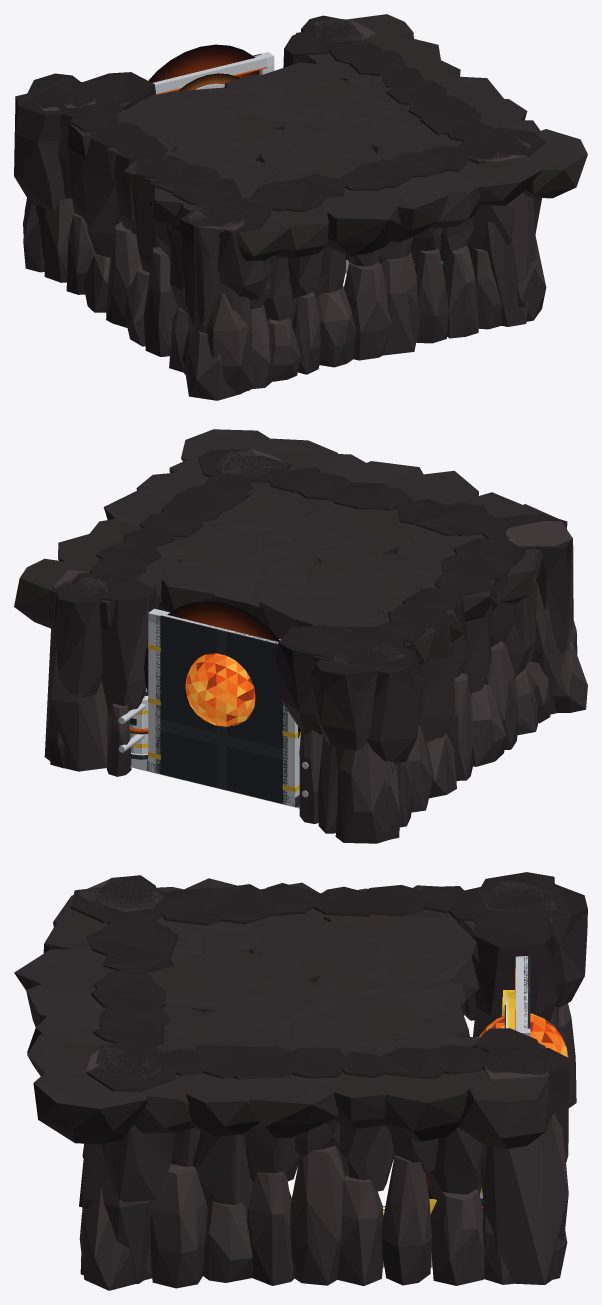
File: reactor-hall.glb
The picture shows the model from 3 angles, top to bottom: view 1: azimuth 30°, elevation 25°; view 2: azimuth 150°, elevation 25°; view 3: azimuth 270°, elevation 25°; orthographic projection. The views are drawn at different scales.
Visible parts, largest first — view 1: Batched static valley; view 2: Batched static valley, Spin_z_8; view 3: Batched static valley, Spin_z_8.
Boxes of the visible parts, x1,y1,x2,y2 form: Batched static valley: [14, 14, 587, 400]; Batched static valley: [14, 429, 587, 843]; Spin_z_8: [185, 653, 255, 726]; Batched static valley: [14, 872, 587, 1290]; Spin_z_8: [479, 1013, 568, 1060].
Bounding box in the file's own units: 54.07 × 23.8 × 54.89.
Materials: 12 (2 with a texture image).
